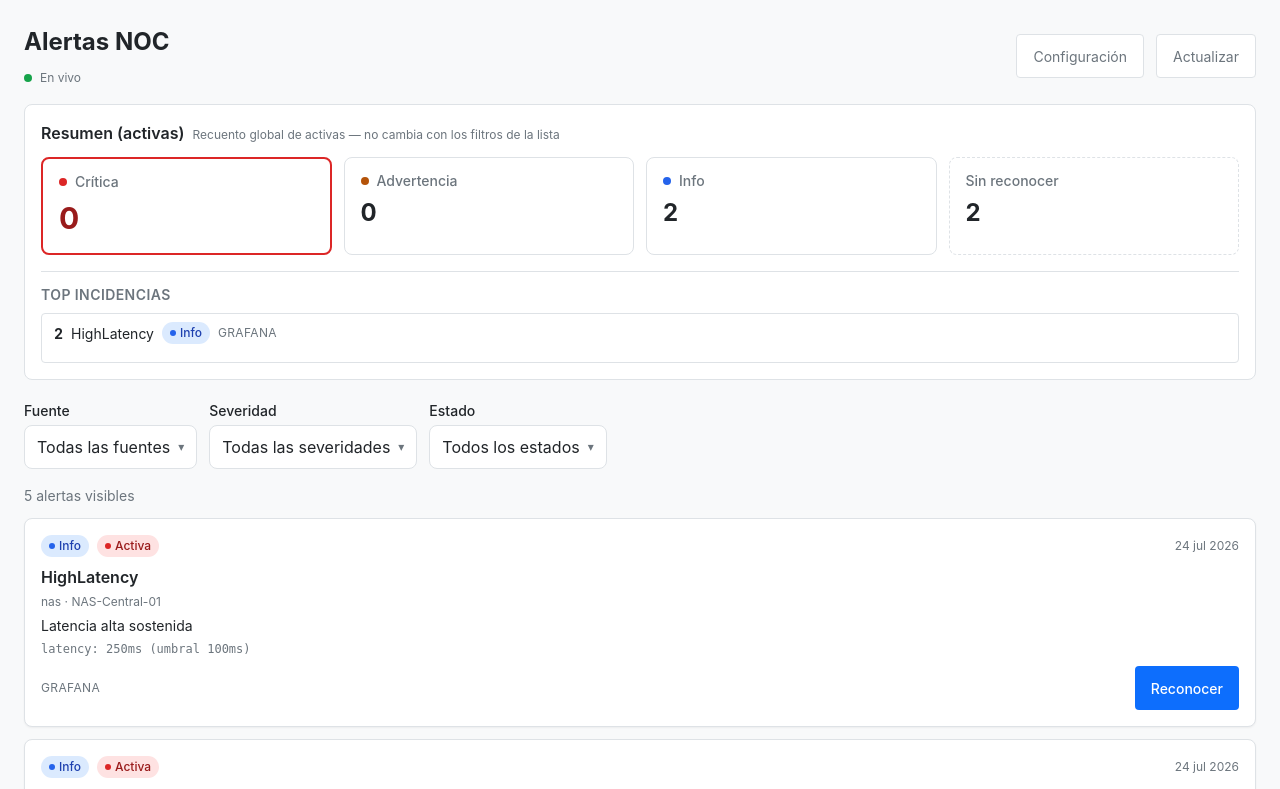
Test case: ALP-9 severity summary tiles (global, unaffected by list filters) › A2: clicking a severity tile also filters the list to firing — the count matches the tile
The image size is (1280, 789).
Expected: the 1st text "2" is shown, [663,195,678,231]
Click the button "Info 2". click: click(667, 180)
box: [646,157,936,255]
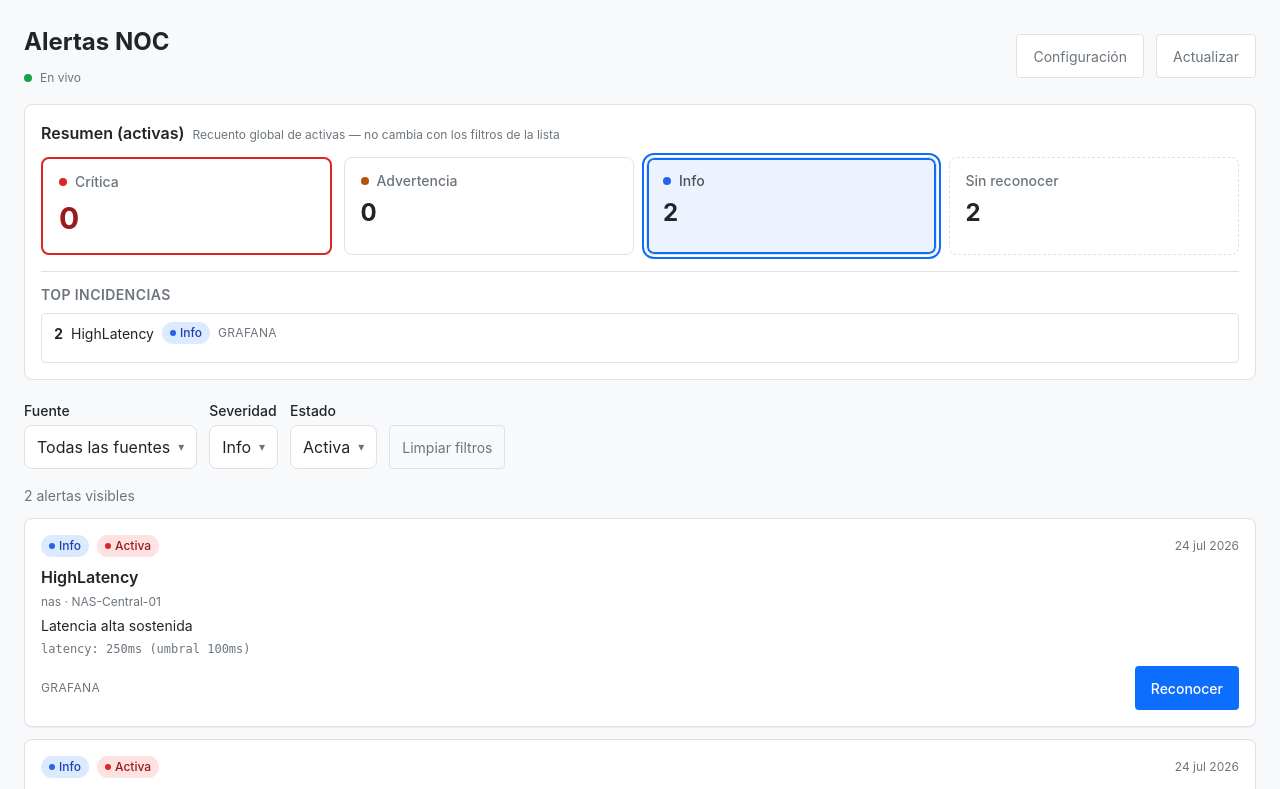
Expected: the text "2 alertas visibles" is shown, [24,487,135,504]
Expected: the text "5 alertas visibles" is gone
Expected: the dropdown named "estado" shows "Activa", [290,425,377,469]
Note: Toggle OFF: vuelve a mostrar todas (activas + resueltas).
Click the button "Info 2". click: click(667, 180)
box: [646,157,936,255]
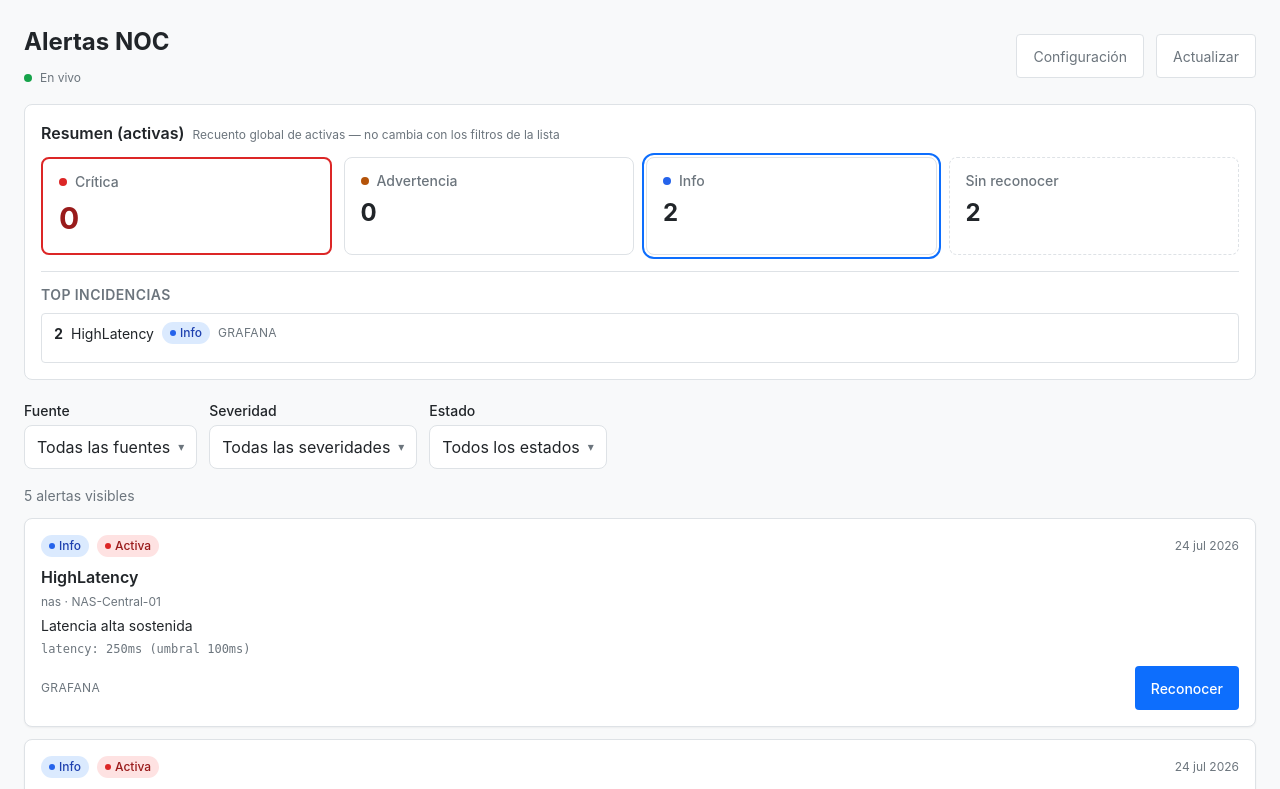
Expected: the text "5 alertas visibles" is shown, [24,487,135,504]
